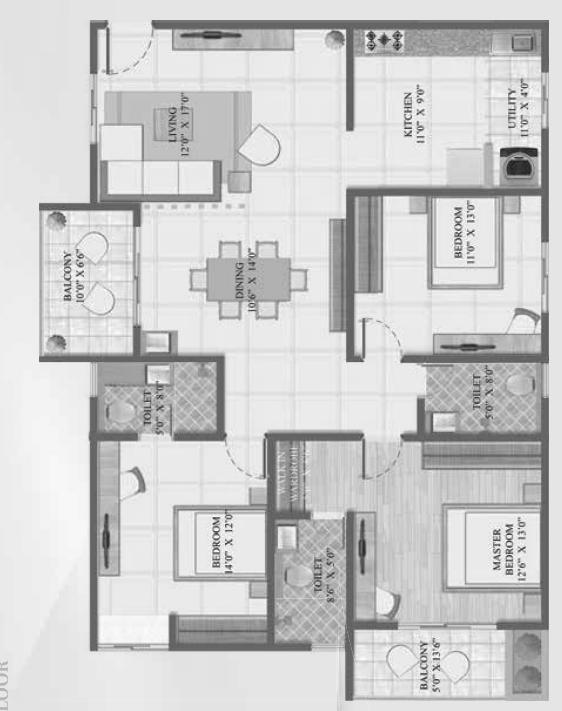Balcony: (43, 209, 139, 358), (347, 625, 545, 697)
Bed: (442, 506, 543, 587), (427, 197, 499, 286), (174, 512, 267, 578)
Bedroom: (273, 438, 547, 621), (93, 439, 271, 648), (350, 190, 545, 355)
Dining Room: (140, 207, 348, 435)
Dining table: (186, 239, 310, 322)
Kitchen: (351, 31, 491, 184)
Living Room: (94, 27, 348, 208)
Sofa: (100, 160, 220, 198), (99, 122, 145, 198)
Wardrobe: (422, 439, 542, 469), (170, 614, 269, 645), (354, 194, 384, 295), (328, 218, 350, 335), (273, 440, 306, 510)
commode: (286, 567, 316, 592), (106, 400, 138, 423), (506, 374, 534, 396)
door: (101, 27, 156, 77), (223, 436, 267, 483), (360, 437, 406, 481), (130, 226, 146, 331), (312, 516, 353, 552), (362, 322, 404, 357), (397, 619, 498, 633), (415, 364, 455, 397)
kitchen-slab: (352, 26, 543, 57)
sink: (488, 33, 540, 56), (147, 363, 173, 390), (142, 329, 172, 352), (427, 414, 459, 431), (278, 525, 299, 550)
stove: (363, 31, 406, 54)
toilet: (271, 518, 346, 648), (93, 361, 220, 436), (416, 366, 545, 437)
tv: (352, 515, 377, 594), (95, 496, 118, 578), (172, 26, 249, 50), (436, 341, 514, 356)
utility: (490, 31, 546, 186)
